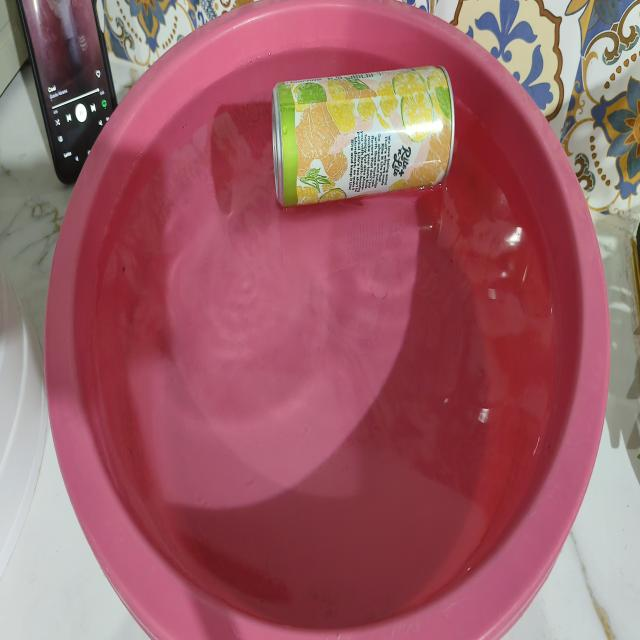Aluminum Can: (272, 66, 455, 206)
